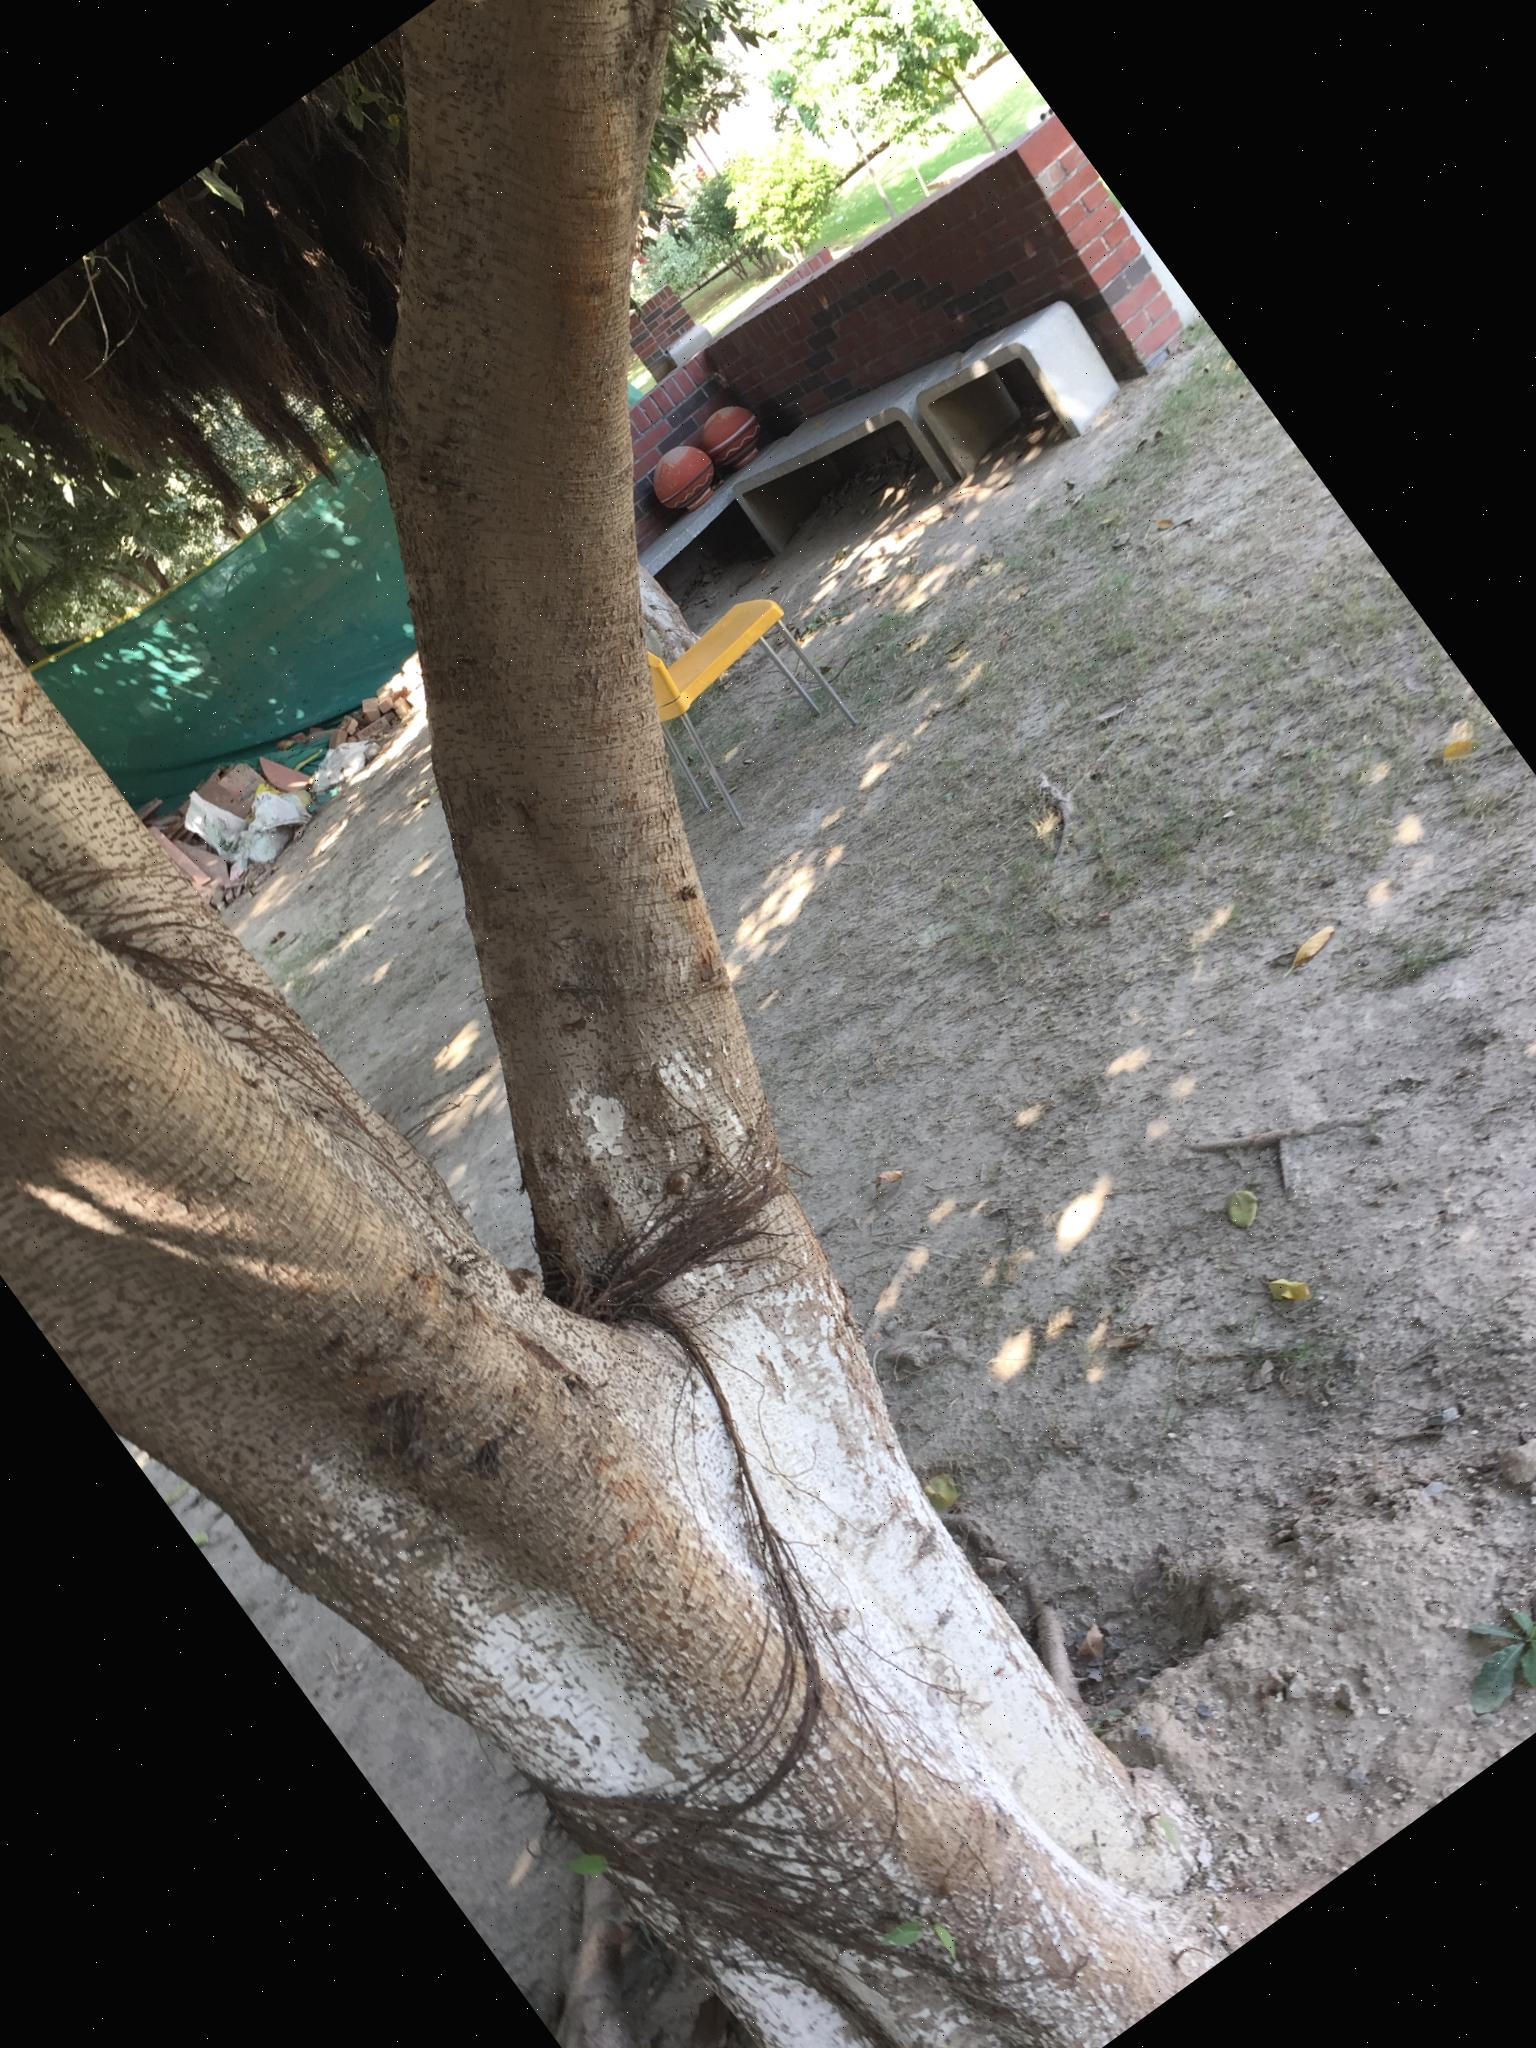chair: (608, 571, 874, 842)
